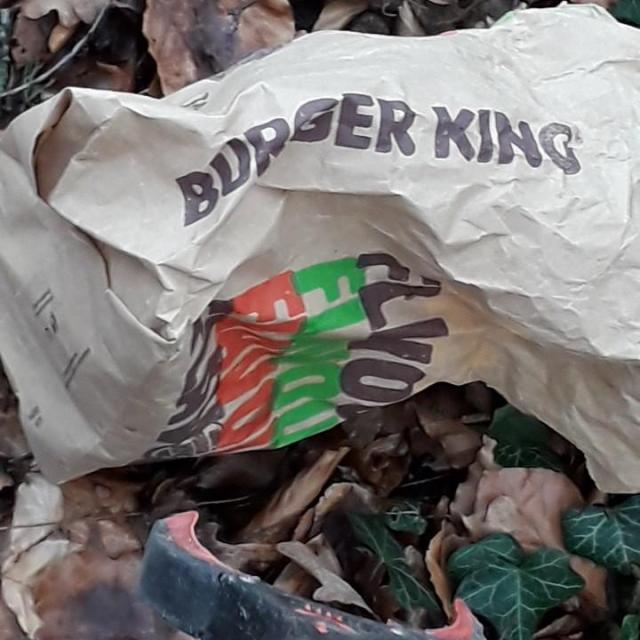Paper: (0, 1, 640, 494)
